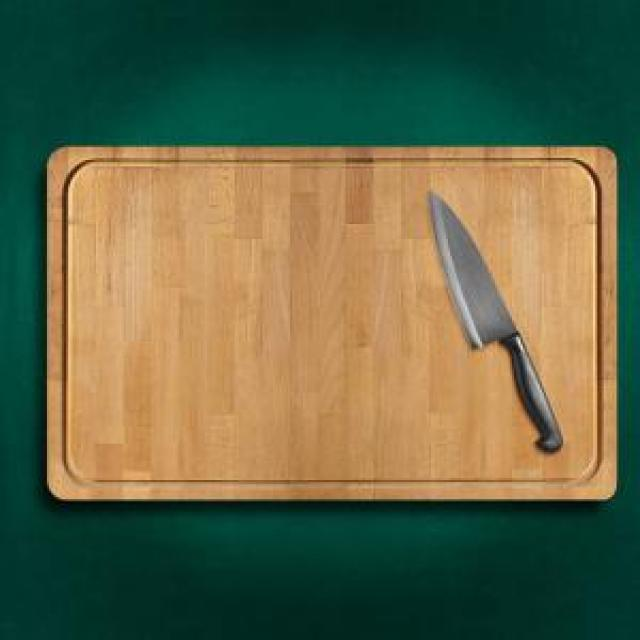knife: (414, 188, 564, 464)
